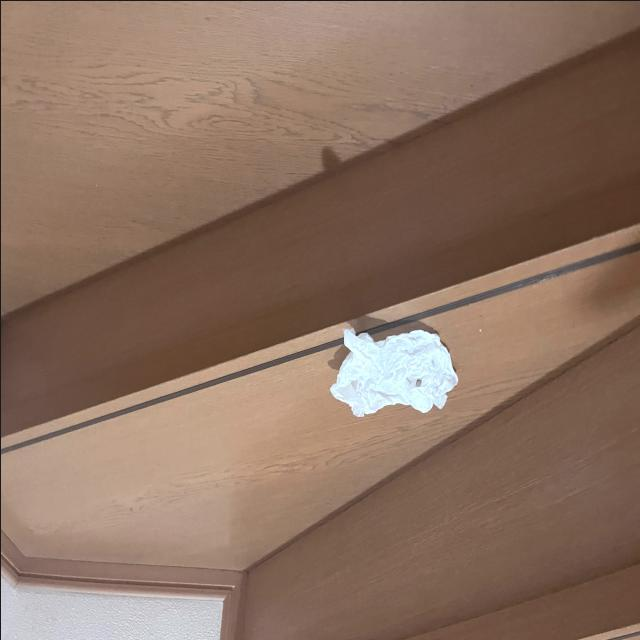Paper: (314, 318, 464, 429)
